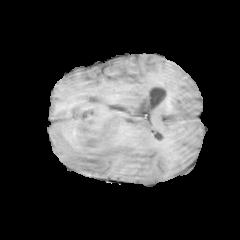glioma: (52, 98, 151, 173)
